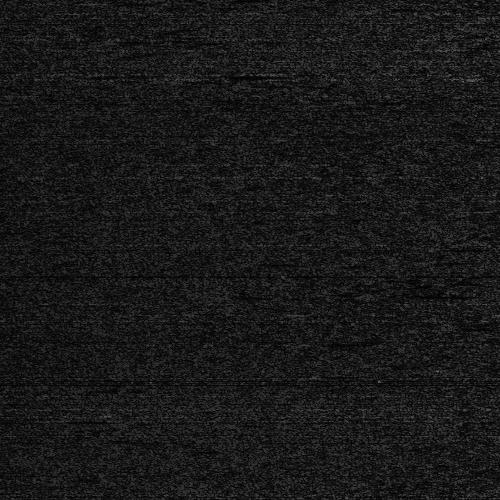rock: (170, 71, 243, 76)
shadow: (207, 71, 278, 76)
